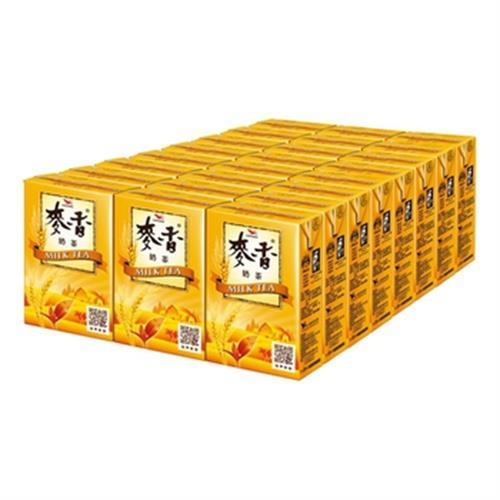milk tea: (209, 209, 325, 377), (114, 194, 205, 358), (25, 171, 115, 335)
